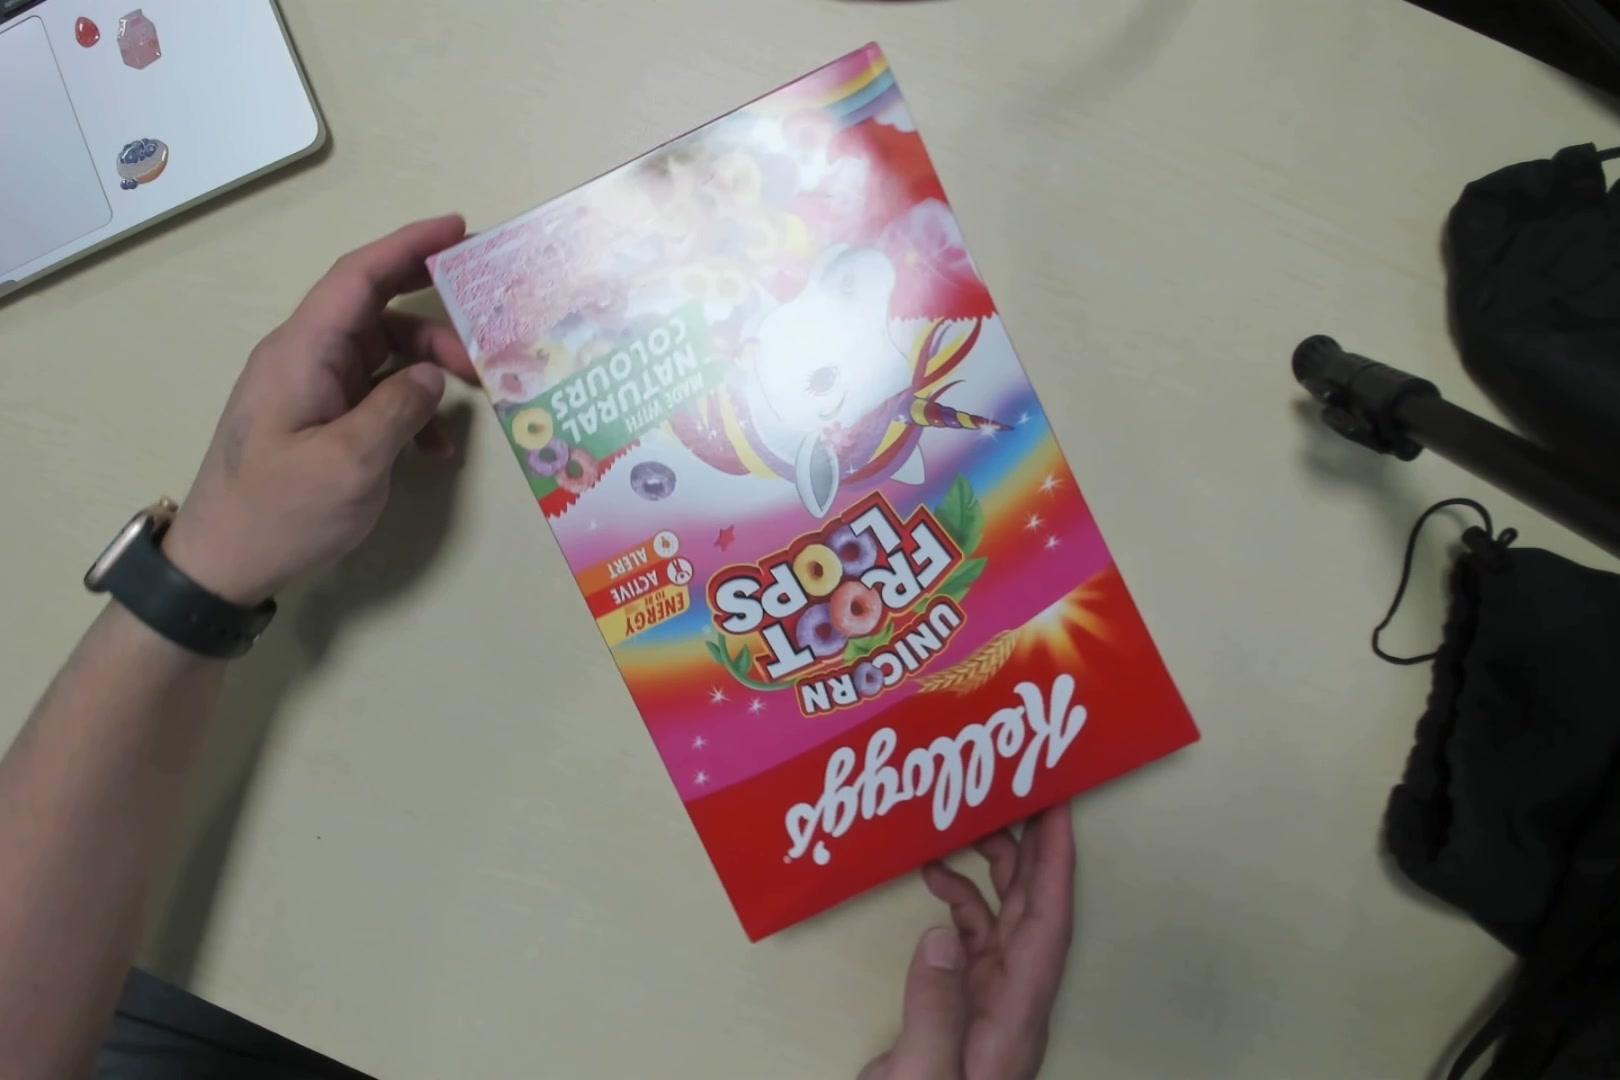BreakfastCereals_200-299g_Halal_NonHealthy: (442, 55, 1170, 870)
